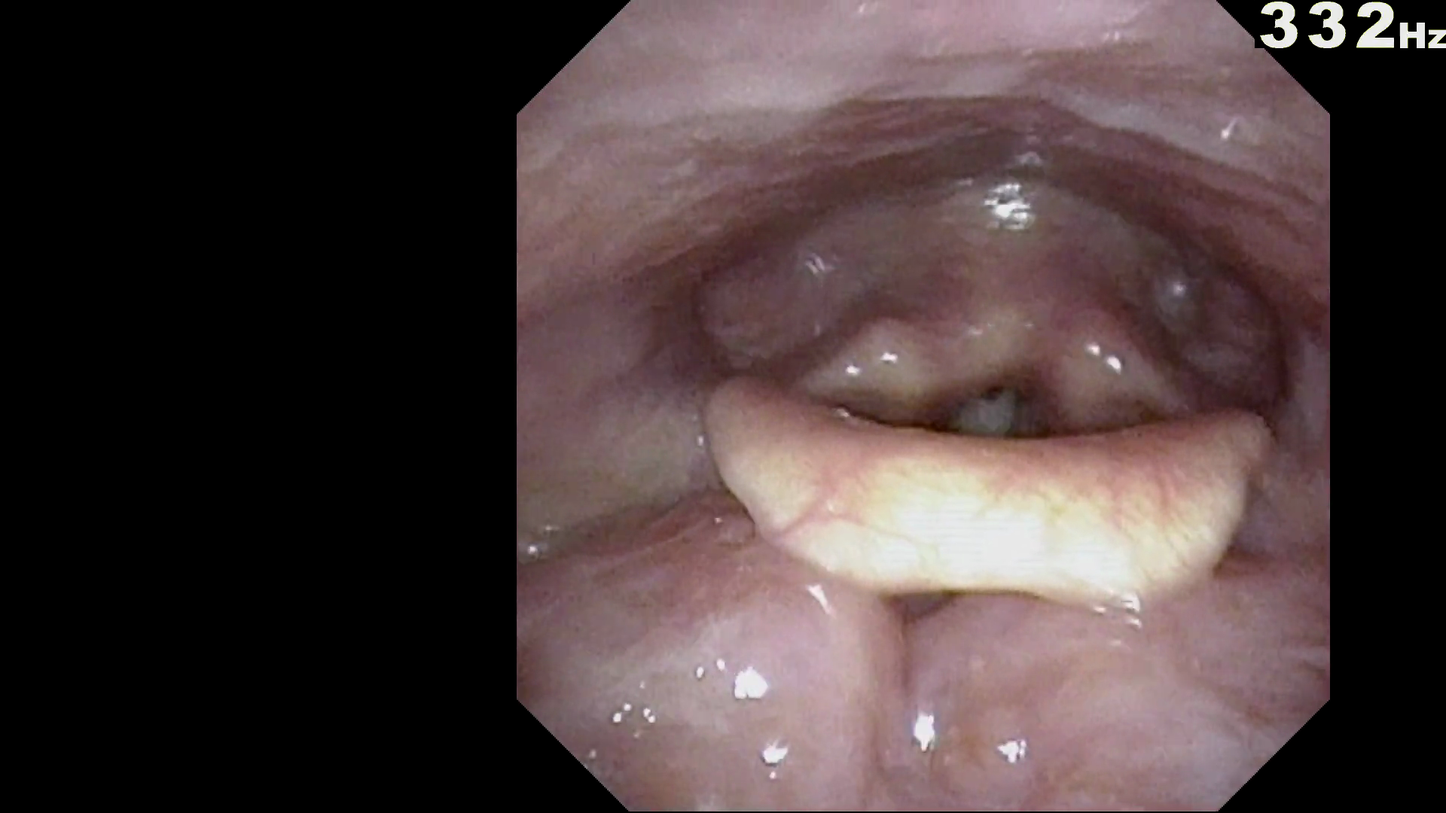epiglottis: (684, 355, 1286, 604)
trachea: (932, 321, 1079, 475)
